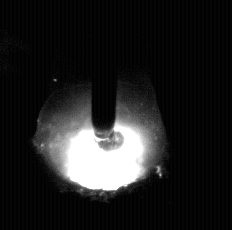arame: (92, 0, 117, 151)
poca: (34, 0, 167, 230)
